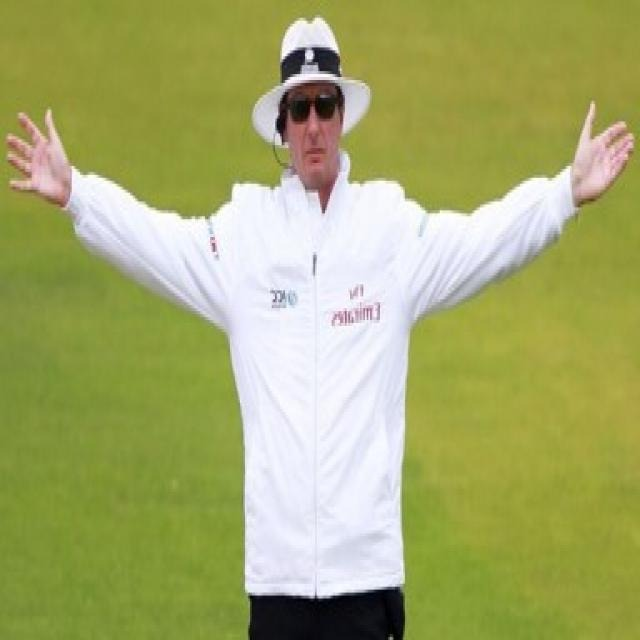Wide: (2, 6, 638, 640)
